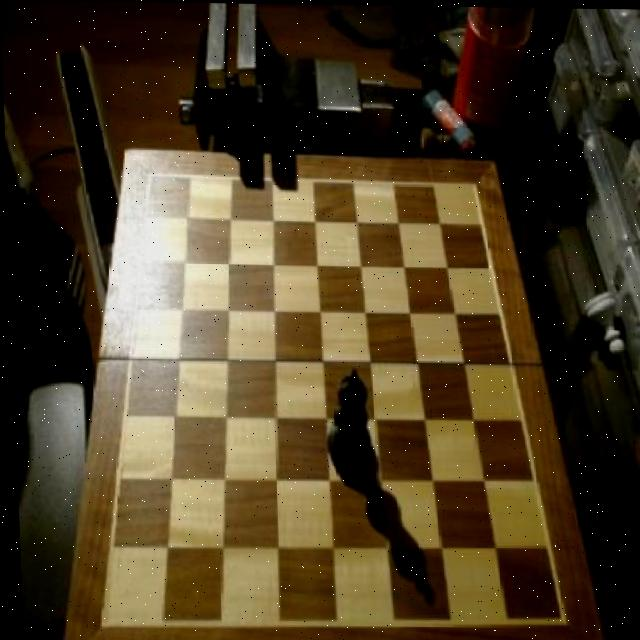black-bishop: (320, 366, 368, 479)
